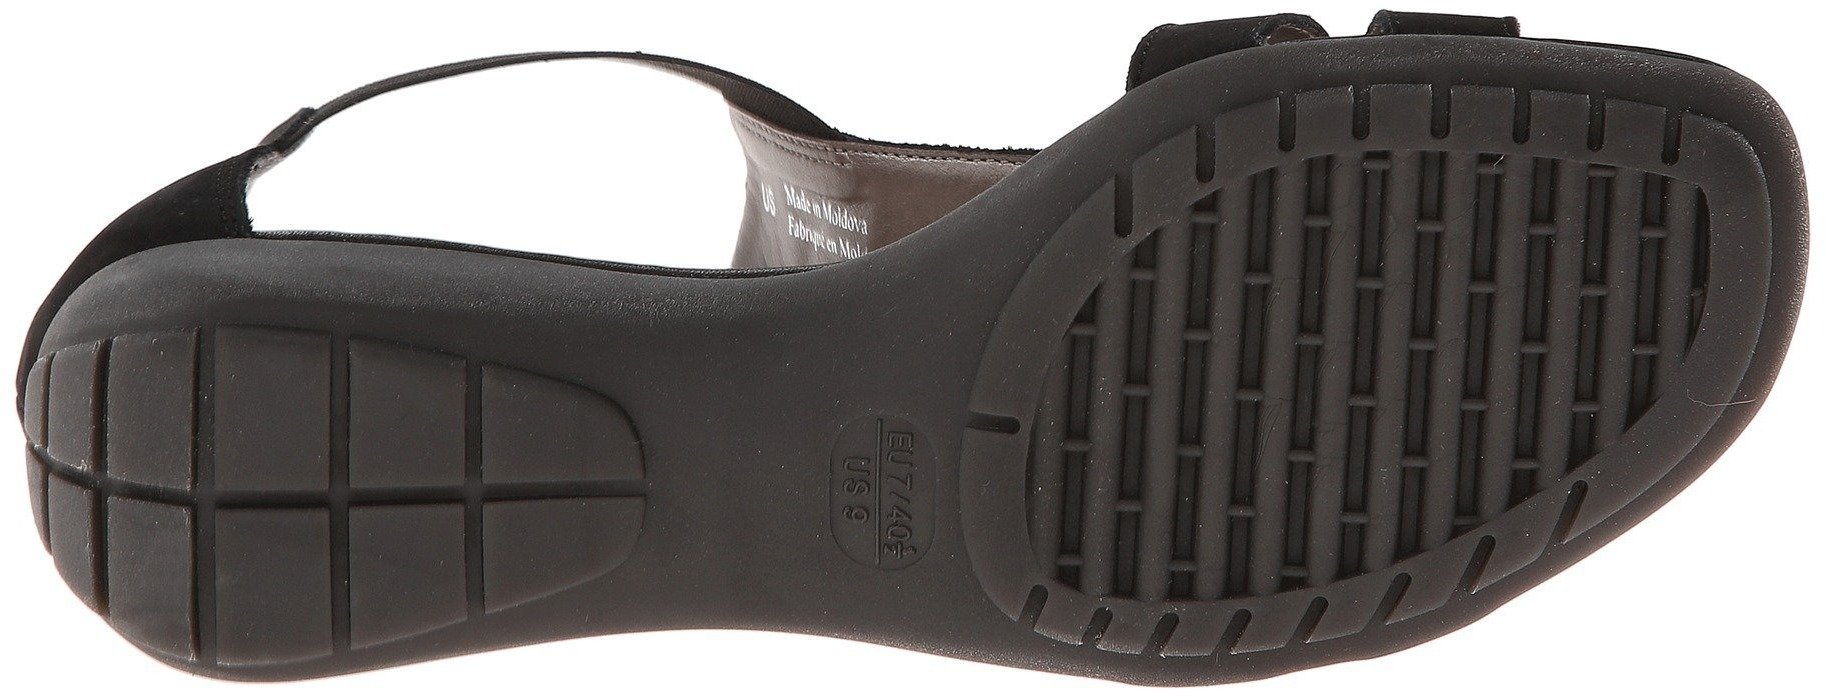circle: (818, 405, 947, 582)
line: (1179, 240, 1485, 524)
other: (632, 285, 828, 457), (639, 473, 815, 615)
quad: (310, 304, 618, 610), (1179, 240, 1485, 524), (49, 332, 286, 575)
text: (818, 405, 947, 582), (831, 436, 927, 531)
